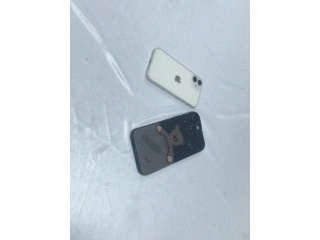phone: (130, 111, 206, 176), (145, 47, 202, 109)
